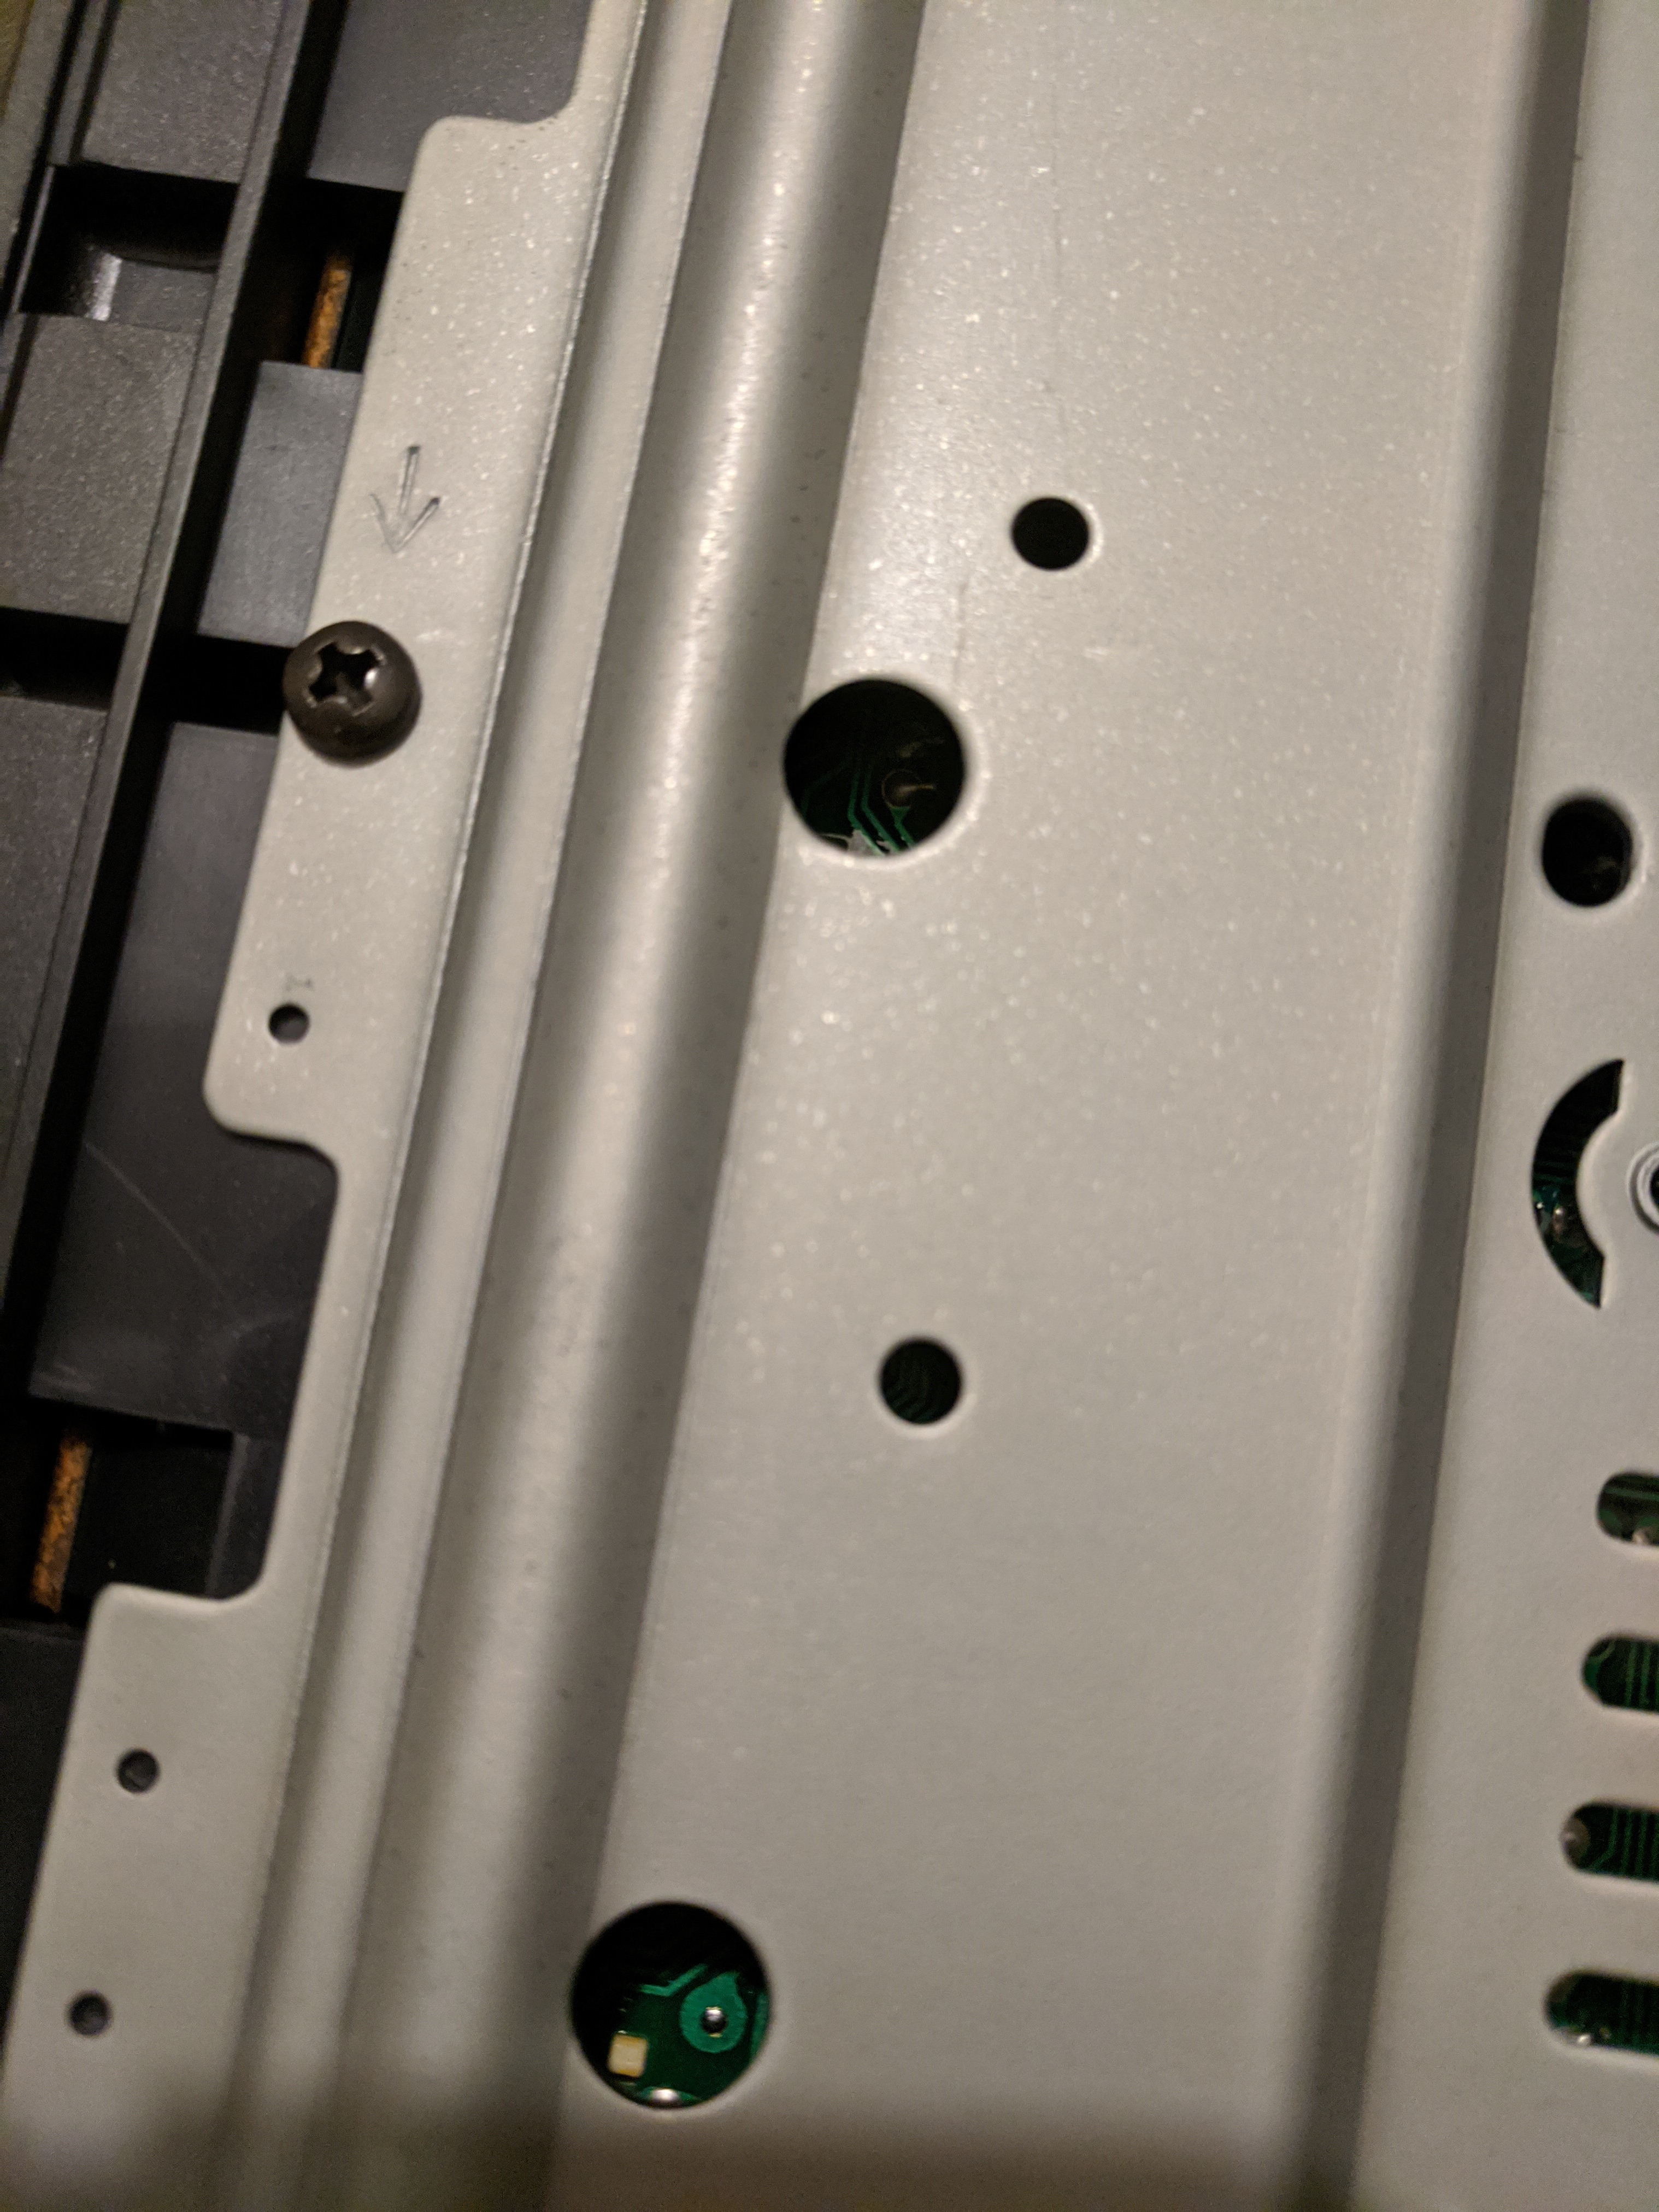cross_recessed_screw: (279, 610, 415, 745)
